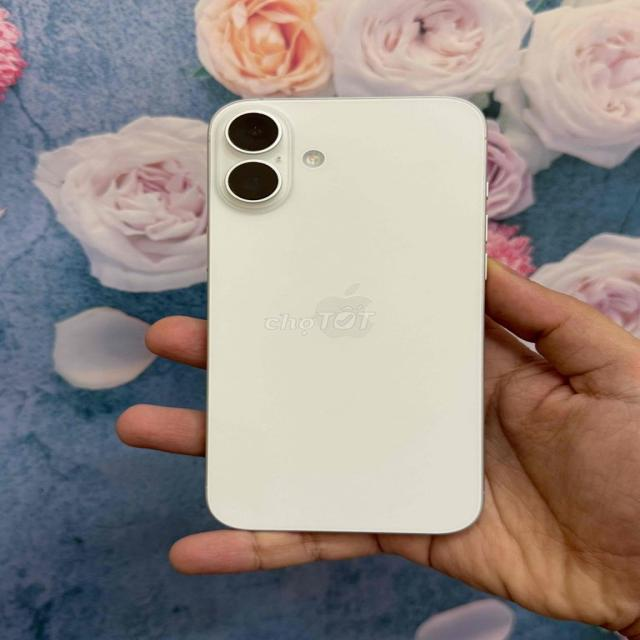gen_16: (192, 79, 502, 548)
